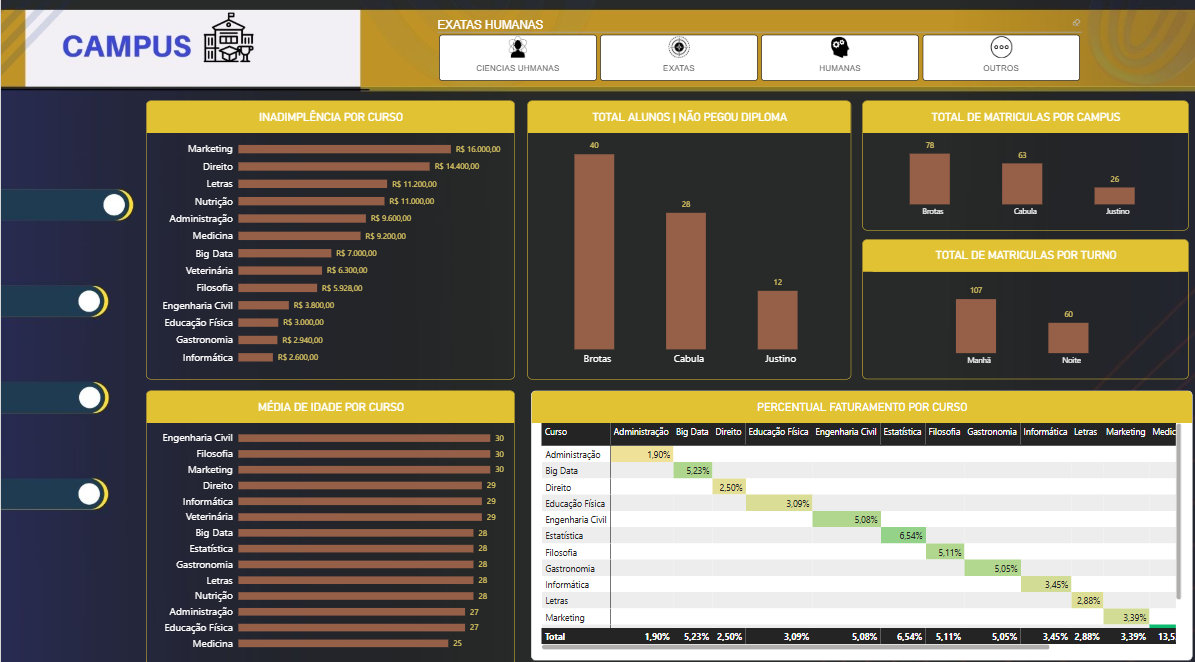

The page's visual inventory and layout, read from the dashboard file:
{"tool":"powerbi","page":{"name":"CAMPUS","canvas":[1920,1080],"ordinal":1},"visuals":[{"type":"barChart","title":"INADIMPLÊNCIA POR CURSO","fields":{"Category":["dim_cursos.Curso"],"Y":["MEDIDAS.FAT_INADIMPLENTES"]},"box":[232,164,590,446],"z":0,"group":"g1"},{"type":"group","id":"g1","title":"GERAL | PÁGINA | 1","box":[232,17,1674,1049],"z":1000},{"type":"barChart","title":"MÉDIA DE IDADE POR CURSO","fields":{"Category":["dim_cursos.Curso"],"Y":["MEDIDAS.MÉDIA DE IDADE"]},"box":[232,628,590,438],"z":1000,"group":"g1"},{"type":"columnChart","title":"TOTAL ALUNOS | NÃO PEGOU DIPLOMA","fields":{"Category":["dim_campus.Campus"],"Y":["CountNonNull(FATO_BASE.PEGO DIPLOMA)"]},"box":[842,164,518,446],"z":2000,"group":"g1"},{"type":"shape","box":[116.7,460,56.7,51.7],"z":2000},{"type":"ChicletSlicer1448559807354","fields":{"Category":["dim_exatas_humanas.EXATAS HUMANAS"],"Image":["FATO_BASE.IMG  EXATAS"]},"box":[682,17,1063.3,143.3],"z":3000,"group":"g1"},{"type":"shape","box":[116.7,610,56.7,51.7],"z":3000},{"type":"columnChart","title":"TOTAL DE MATRICULAS POR CAMPUS","fields":{"Category":["dim_campus.Campus"],"Y":["MEDIDAS.TT MATRICULAS"]},"box":[1378,164,522,208],"z":4000,"group":"g1"},{"type":"shape","box":[116.7,768.3,56.7,51.7],"z":4000},{"type":"columnChart","title":"TOTAL DE MATRICULAS POR TURNO","fields":{"Category":["dim_turno.Turno"],"Y":["MEDIDAS.TT MATRICULAS"]},"box":[1378,386,522,224],"z":5000,"group":"g1"},{"type":"pivotTable","title":"PERCENTUAL FATURAMENTO POR CURSO","fields":{"Columns":["dim_cursos.Curso"],"Rows":["FATO_BASE.Curso"],"Values":["MEDIDAS.% DO TOTAL FATURAMENTO"]},"box":[848,628,1058,432],"z":6000,"group":"g1"}]}

Visuals, with their boxes in screenshot pixels (x1, y1, x2, y2), scaled from the page's 1920x1080 canvas onto the 1195x662 screenshot:
"INADIMPLÊNCIA POR CURSO" barChart: 144, 101, 512, 374
"GERAL | PÁGINA | 1" group: 144, 10, 1186, 653
"MÉDIA DE IDADE POR CURSO" barChart: 144, 385, 512, 653
"TOTAL ALUNOS | NÃO PEGOU DIPLOMA" columnChart: 524, 101, 846, 374
shape: 73, 282, 108, 314
ChicletSlicer1448559807354 - dim_exatas_humanas.EXATAS HUMANAS x FATO_BASE.IMG  EXATAS: 424, 10, 1086, 98
shape: 73, 374, 108, 406
"TOTAL DE MATRICULAS POR CAMPUS" columnChart: 858, 101, 1183, 228
shape: 73, 471, 108, 503
"TOTAL DE MATRICULAS POR TURNO" columnChart: 858, 237, 1183, 374
"PERCENTUAL FATURAMENTO POR CURSO" pivotTable: 528, 385, 1186, 650
